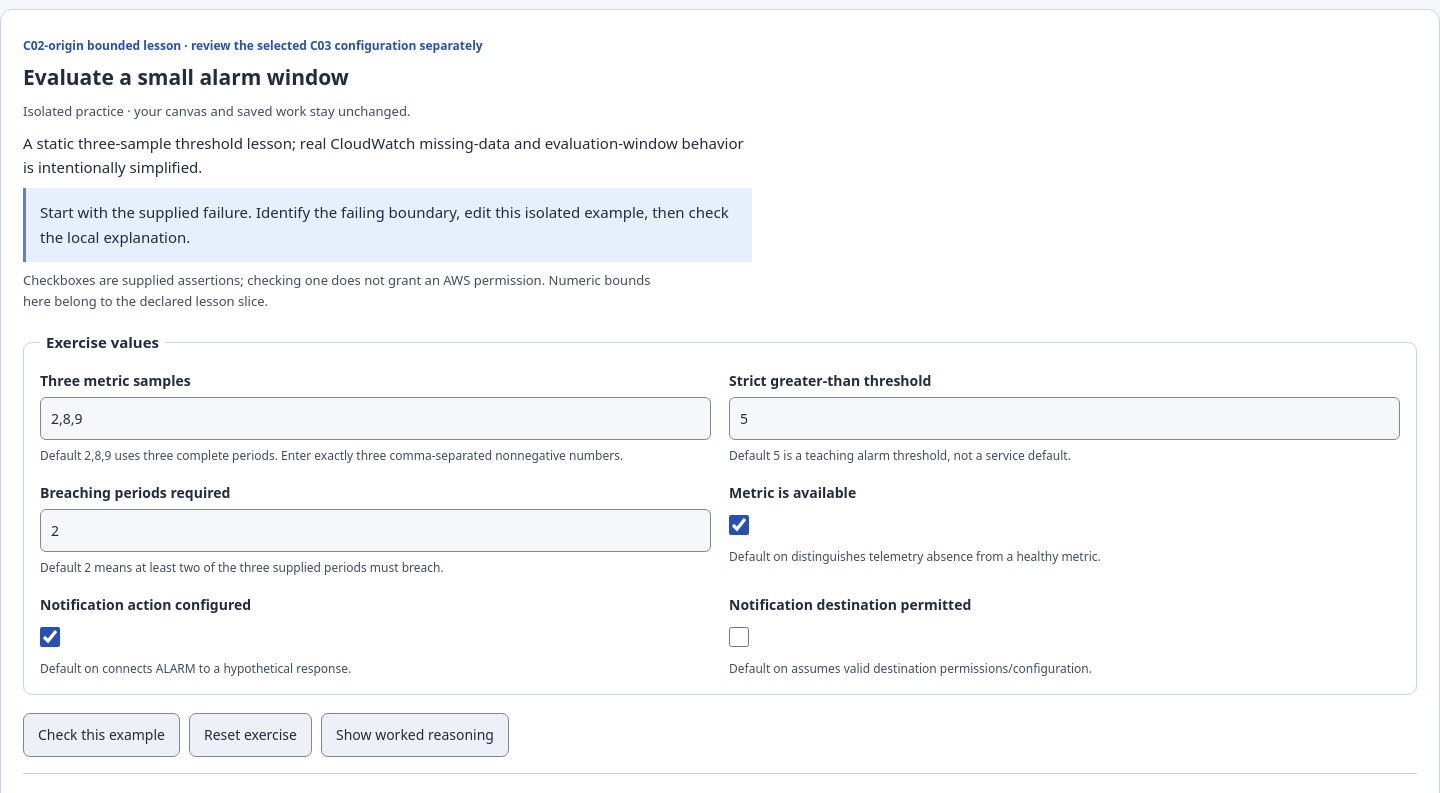
it: standalone service practice panel › reveals worked reasoning separately and loads a repair only into the local exercise
Expected: the checkbox labelled "Notification destination permitted" is not checked, x1=729 y1=626 x2=749 y2=646
Click the button "Show worked reasoning": {"x": 415, "y": 735} x1=321 y1=713 x2=509 y2=757
(page scrolled)
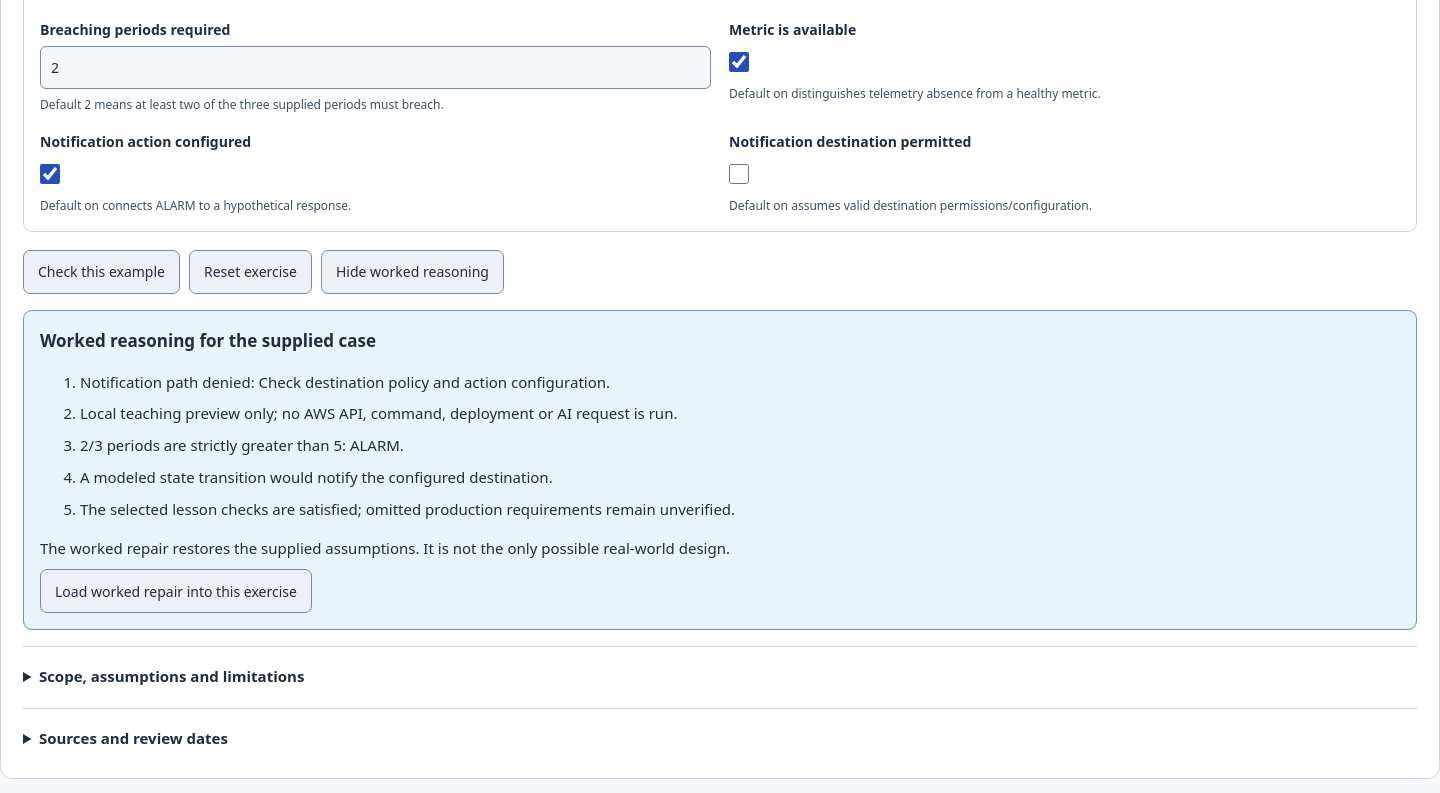
Expected: the checkbox labelled "Notification destination permitted" is not checked, x1=729 y1=164 x2=749 y2=184
Now the heading "Worked reasoning for the supplied case" is shown, box x1=40 y1=329 x2=376 y2=352
Click the button "Load worked repair into this exercise": {"x": 176, "y": 591} x1=40 y1=569 x2=312 y2=613
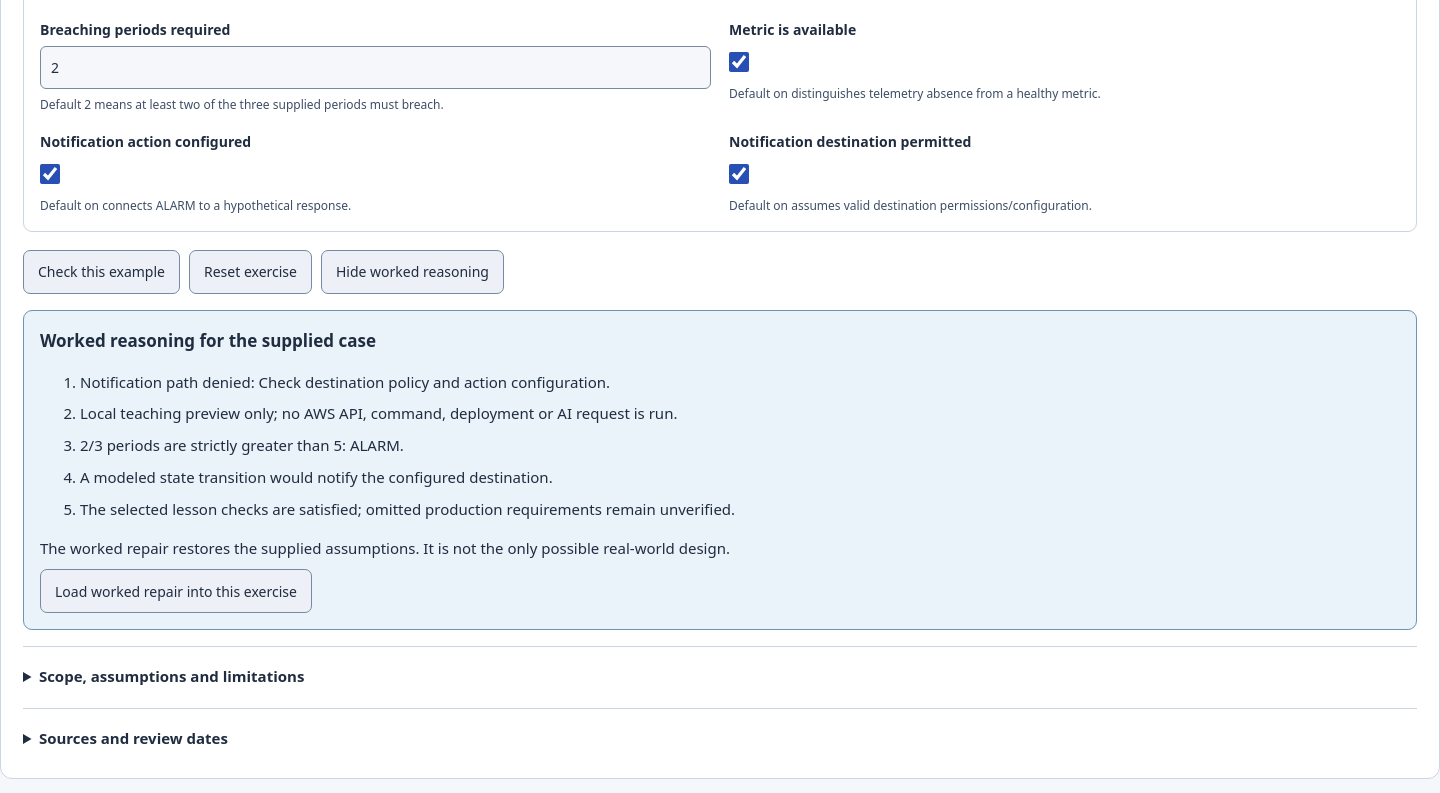
Now the checkbox labelled "Notification destination permitted" is checked, box x1=729 y1=164 x2=749 y2=184
